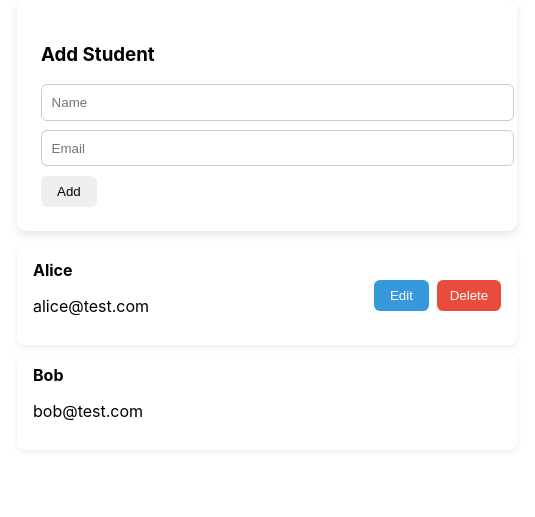
Scenario: StudentForm component › shows error message when submission fails
Expected: the text "Alice" is shown, [33,260,73,280]
Step 1. Type "Alice" into the field with placeholder "Name" → coordinates (278, 102), box [41,84,514,121]
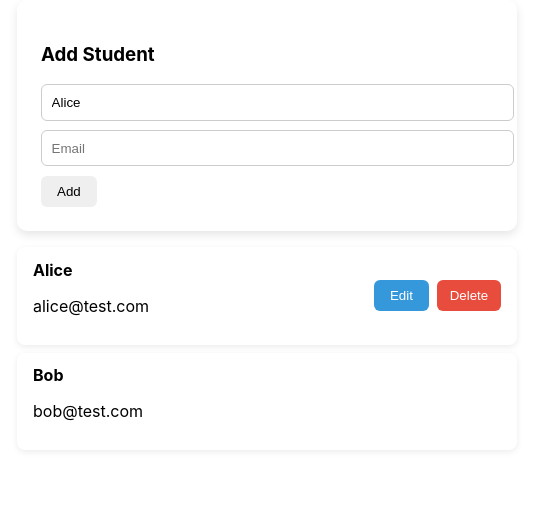
Step 2. Type "alice@test.com" into the field with placeholder "Email" → coordinates (278, 148), box [41,130,514,166]
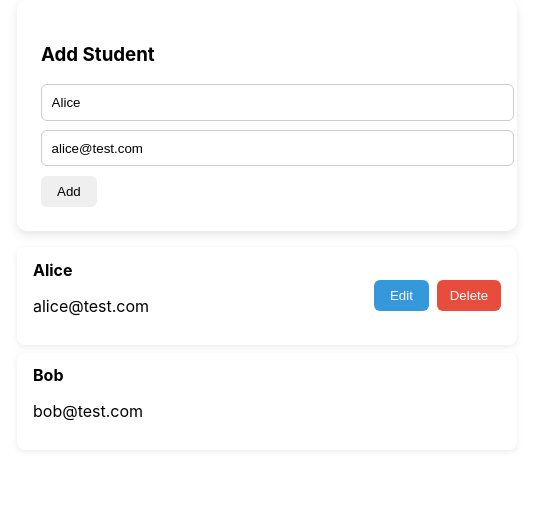
Step 3. Click the button "Add" → coordinates (69, 192), box [41,176,97,207]
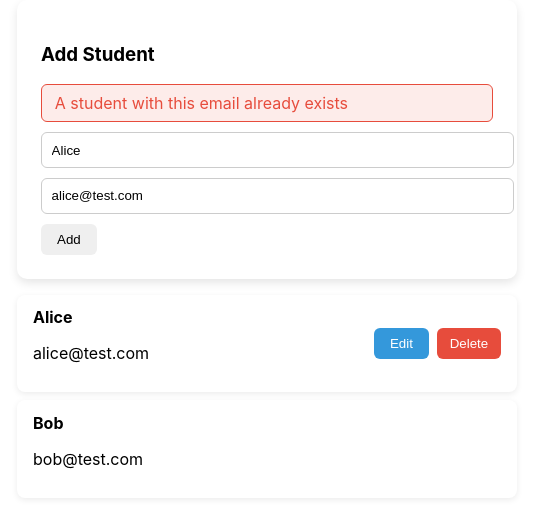
Result: the text "A student with this email already exists" is shown at [41,84,493,122]
